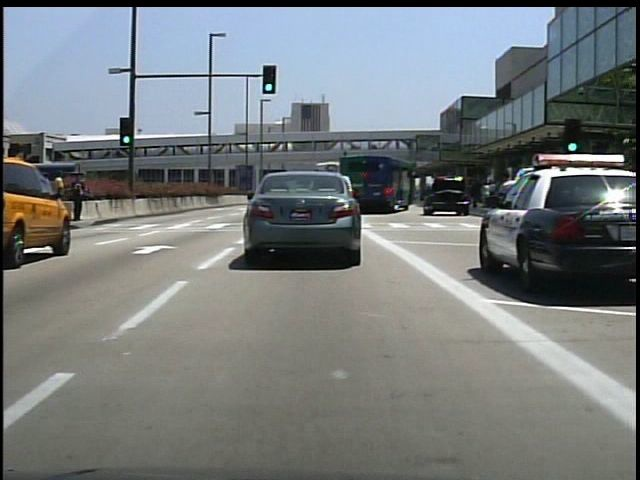person: (71, 173, 90, 224), (55, 169, 70, 202)
